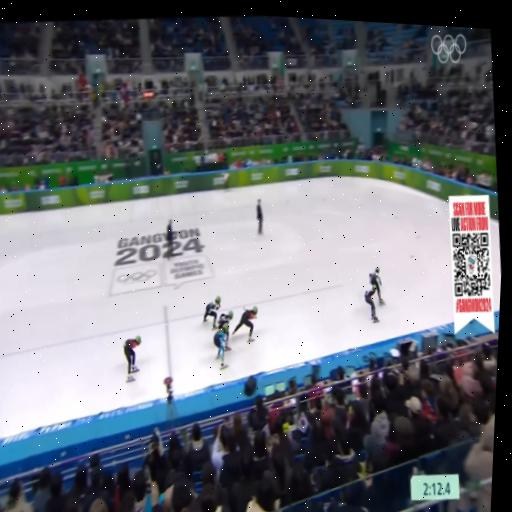Skater: (361, 283, 385, 327), (233, 307, 257, 342), (124, 336, 140, 382), (214, 323, 228, 369), (203, 296, 221, 329), (218, 311, 233, 350), (370, 267, 385, 305)
